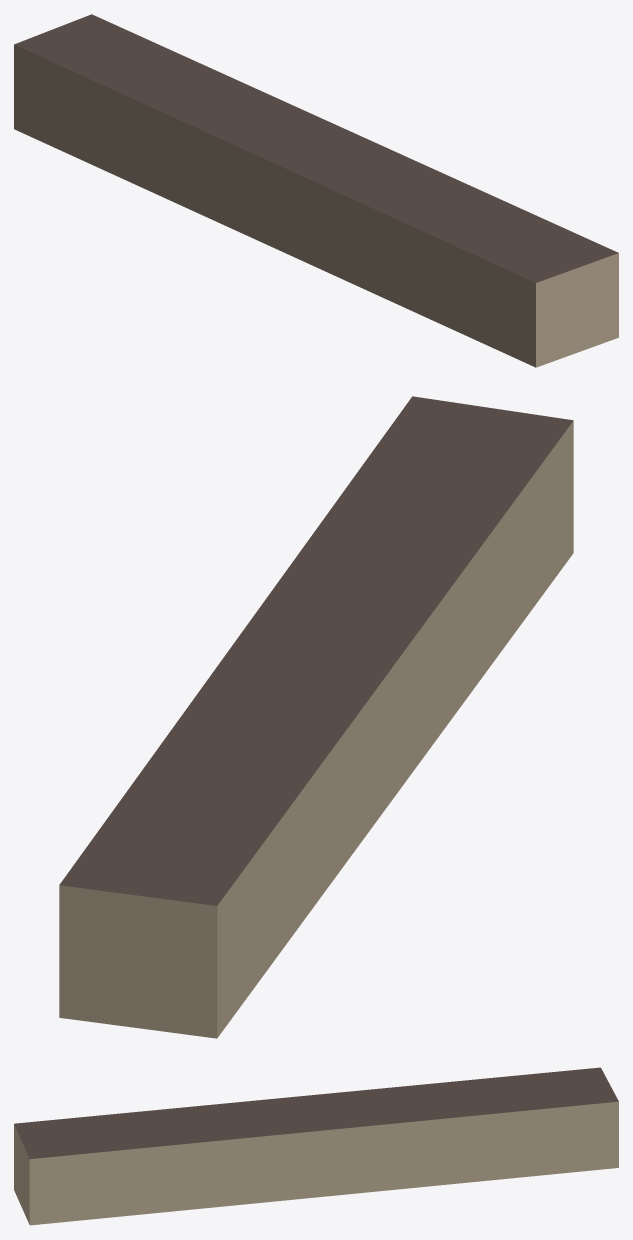
3 renders of one model, top to bottom at view 1: azimuth 30°, elevation 25°; view 2: azimuth 150°, elevation 25°; view 3: azimuth 270°, elevation 25°, orthographic. The views are drawn at different scales.
Parts seen in each view (by area): view 1: HP-w859457337; view 2: HP-w859457337; view 3: HP-w859457337.
Boxes of the visible parts, x1,y1,x2,y2 form: HP-w859457337: (14,14,618,367); HP-w859457337: (59,396,573,1038); HP-w859457337: (14,1067,618,1225).
Bounding box in the file's own units: 26.71 × 9 × 74.45.
